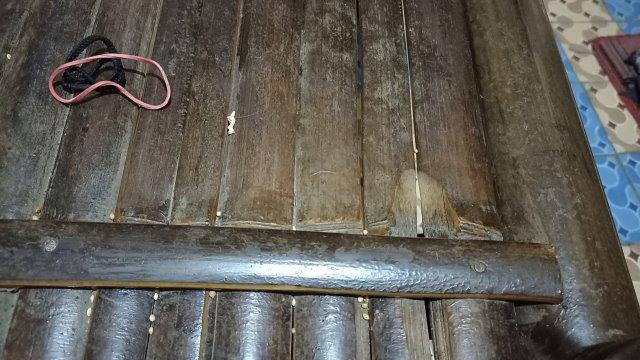karet: (48, 35, 171, 110)
